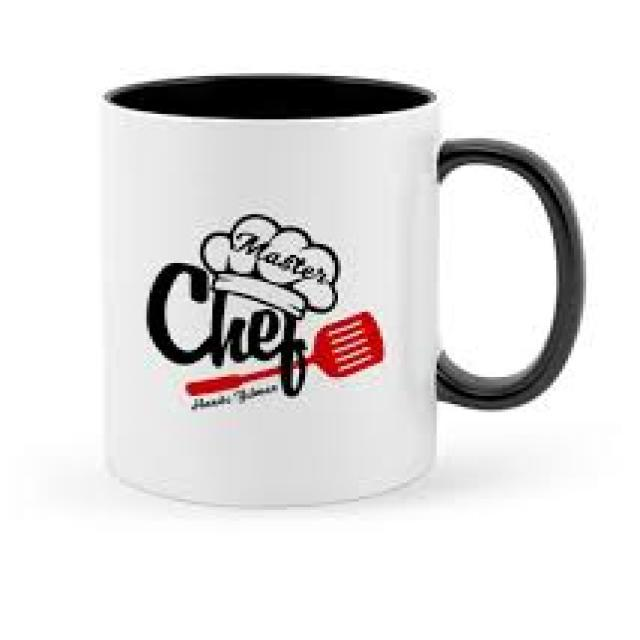taza: (98, 70, 588, 510)
